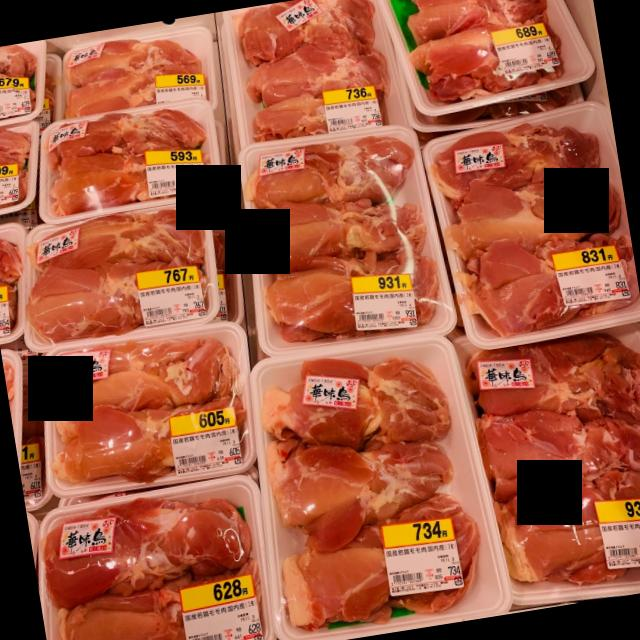chicken: (249, 336, 512, 640), (422, 104, 640, 350), (454, 322, 640, 608), (238, 125, 459, 357), (36, 476, 278, 640), (40, 323, 255, 504), (19, 200, 227, 354), (223, 0, 418, 149), (387, 0, 596, 117), (38, 99, 223, 225), (59, 25, 217, 119), (0, 120, 42, 219), (0, 39, 47, 127)
